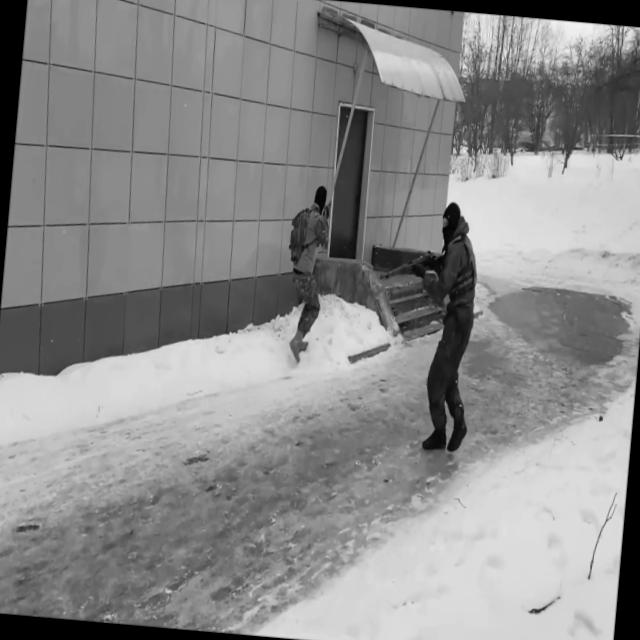gun: (378, 242, 447, 288)
person: (278, 182, 332, 368)
person with a gun: (363, 193, 488, 452)
